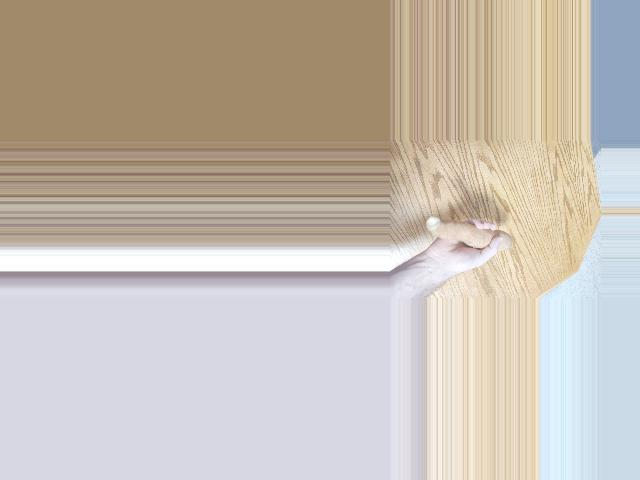sweet_potato: (418, 220, 505, 255)
